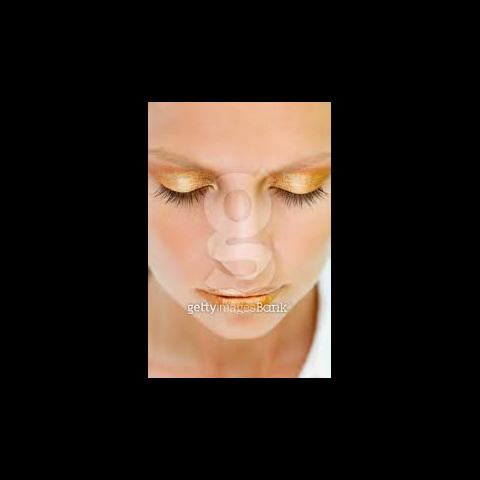closed: (151, 145, 330, 217)
